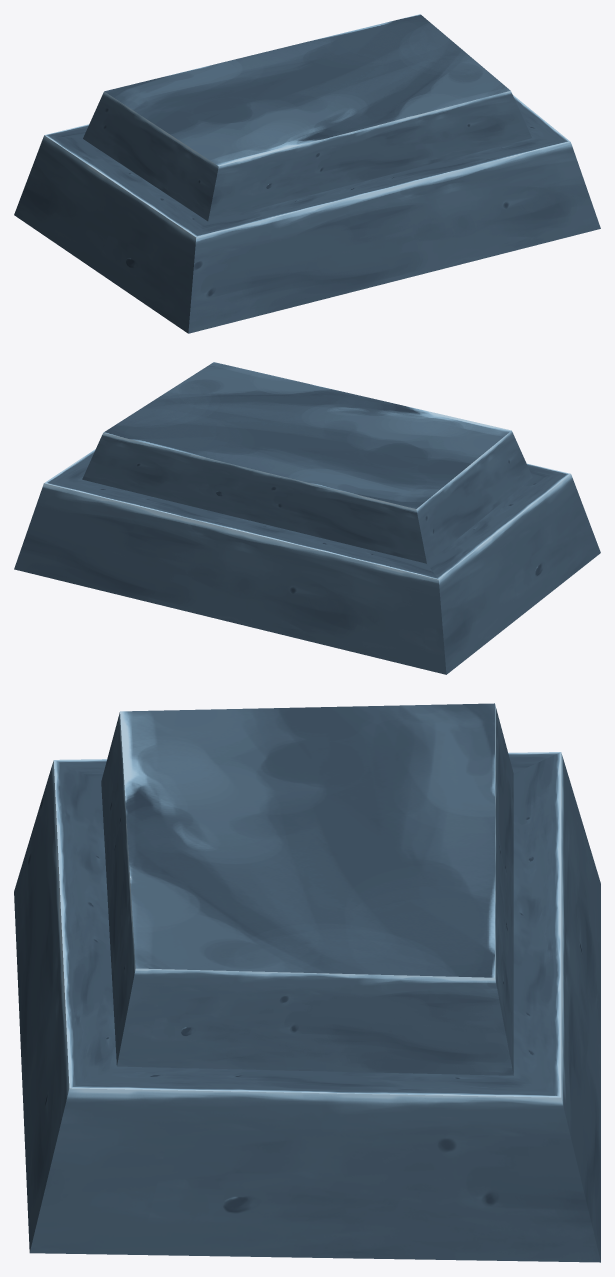
The model's file is SM_PROP_gravestone_base_03.fbx.
3 renders of one model, top to bottom at view 1: azimuth 30°, elevation 25°; view 2: azimuth 150°, elevation 25°; view 3: azimuth 270°, elevation 25°, orthographic. The views are drawn at different scales.
Visible parts, largest first — view 1: SM_PROP_gravestone_base_03; view 2: SM_PROP_gravestone_base_03; view 3: SM_PROP_gravestone_base_03.
Boxes of the visible parts, <box> form: SM_PROP_gravestone_base_03: <box>14,14,600,333</box>; SM_PROP_gravestone_base_03: <box>14,362,600,674</box>; SM_PROP_gravestone_base_03: <box>14,703,600,1262</box>.
Bounding box in the file's own units: 140 × 40 × 91.52.
